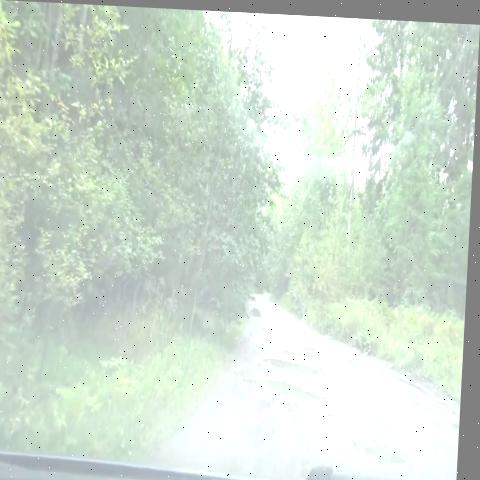pothole: (351, 425, 418, 477), (252, 365, 327, 407), (257, 348, 344, 380), (269, 321, 330, 360), (243, 289, 276, 323), (325, 369, 351, 395), (321, 397, 346, 424)
